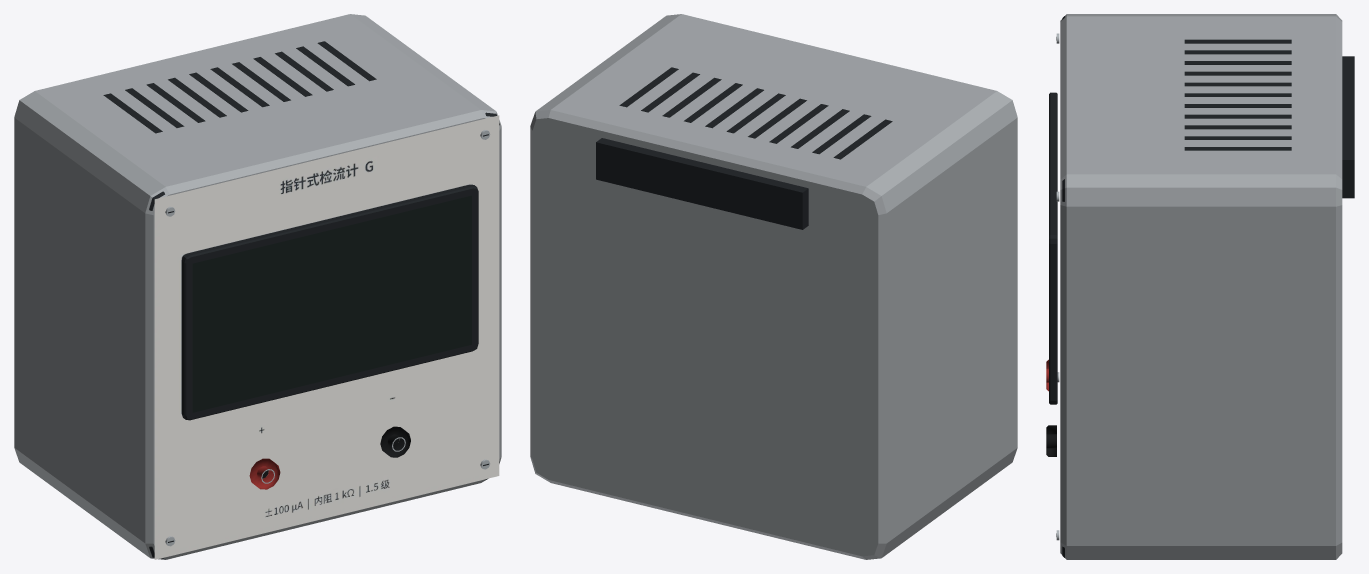
Rendered from instrument.glb.
3 views of the same model, side by side, from view 1: azimuth 30°, elevation 25°; view 2: azimuth 150°, elevation 25°; view 3: azimuth 270°, elevation 25° (orthographic). The views are drawn at different scales.
Visible parts, largest first — view 1: STATIC_paint, PANEL_silkscreen, DISPLAY_MAIN; view 2: STATIC_paint; view 3: STATIC_paint.
Boxes of the visible parts, x1,y1,x2,y2 form: STATIC_paint: [14, 14, 501, 559]; PANEL_silkscreen: [154, 115, 499, 559]; DISPLAY_MAIN: [192, 195, 471, 412]; STATIC_paint: [530, 14, 1017, 559]; STATIC_paint: [1046, 14, 1354, 559].
Size of the model in its own units: 0.12 by 0.12 by 0.0875.
Materials: 4 (1 with a texture image).
